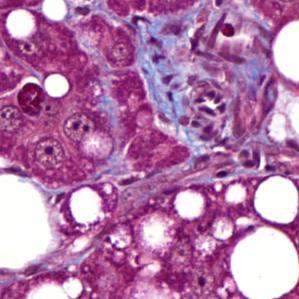steatosis: (230, 227, 299, 295), (251, 176, 299, 224), (175, 188, 208, 223), (6, 8, 35, 40), (40, 68, 73, 96)
